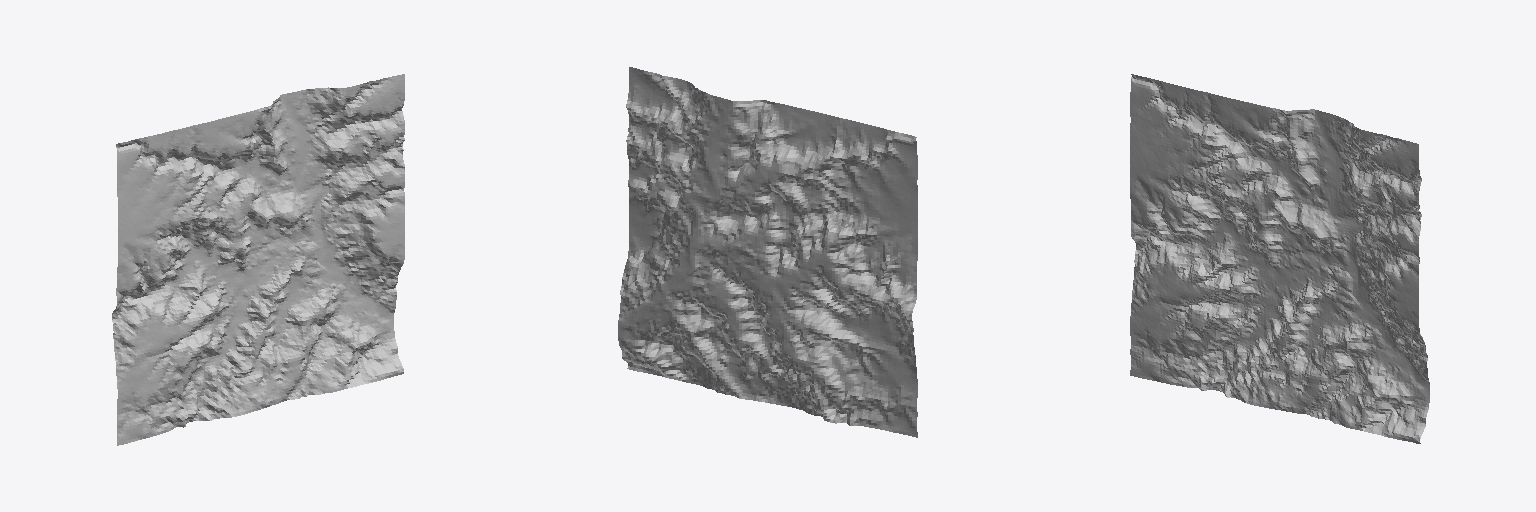
The model's file is terrain.obj.
3 views of the same model, side by side, from view 1: azimuth 30°, elevation 25°; view 2: azimuth 150°, elevation 25°; view 3: azimuth 330°, elevation 25° (orthographic).
Bounding box in the file's own units: 33.22 × 33.22 × 2.35.